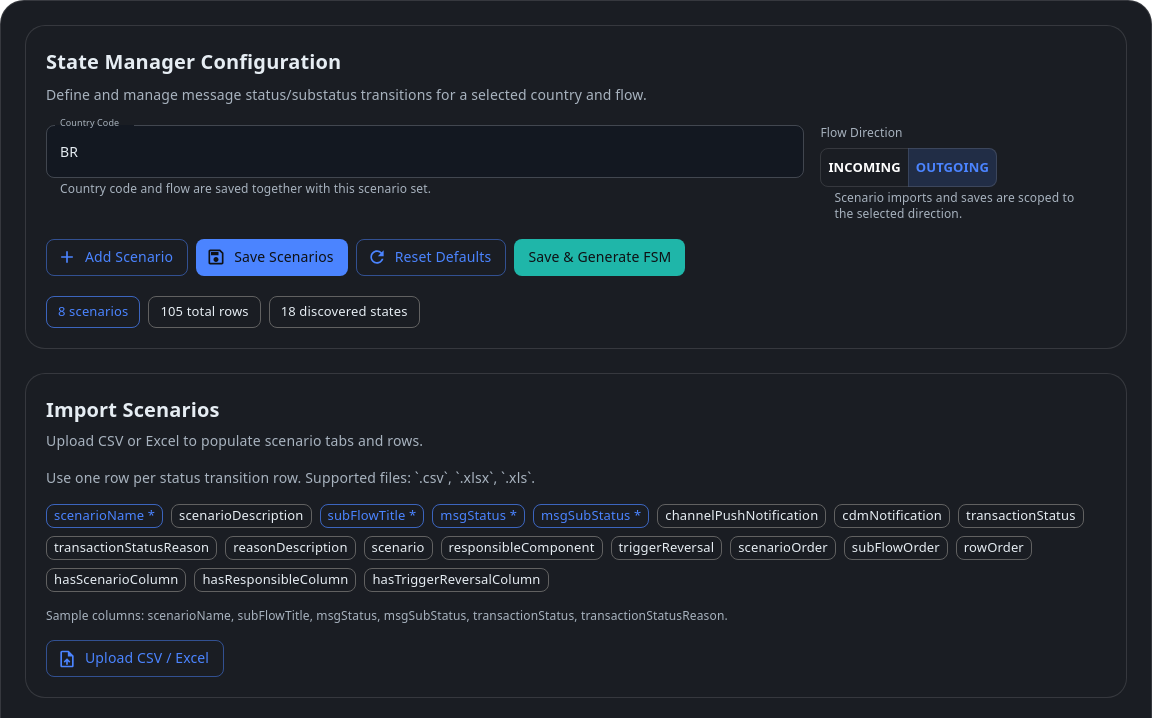
Test: StateManagerPanel › disables Save Scenarios when the configuration is invalid
Clear the field labelled "Country Code" at (425, 152), box x1=46 y1=125 x2=804 y2=178
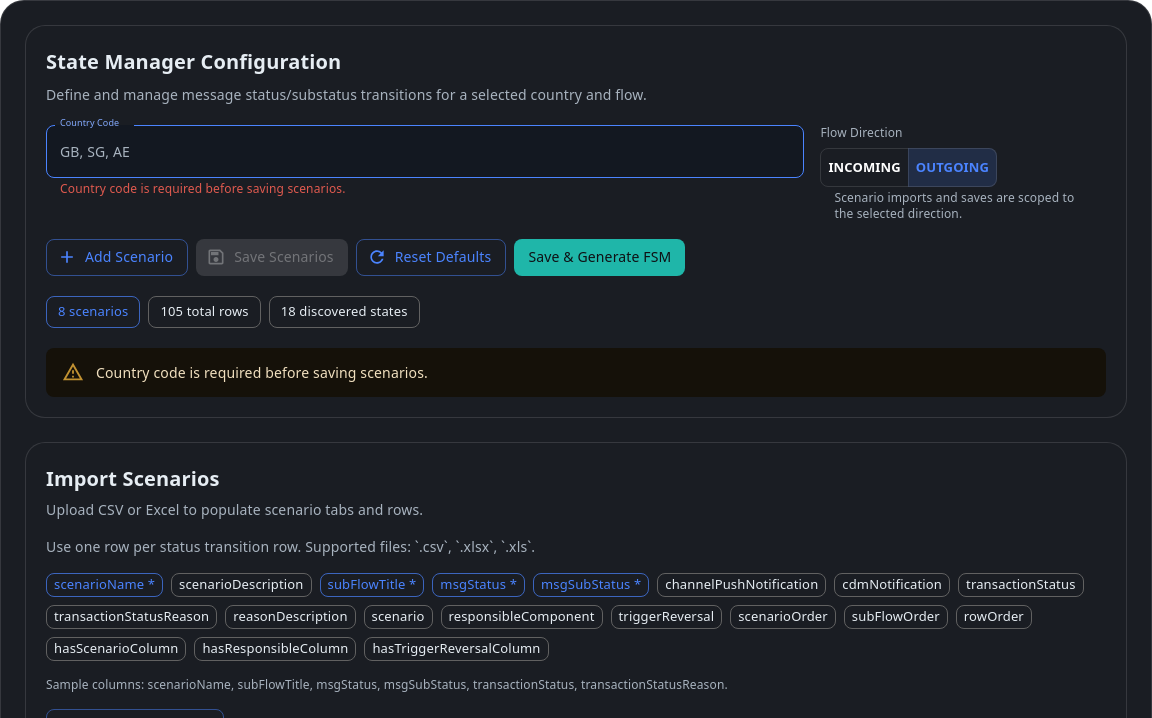
Expected: the button "Save Scenarios" is disabled, x1=196 y1=239 x2=348 y2=276
Expected: the text "Country code is required before saving scenarios." below "Flow Direction" is shown, x1=60 y1=180 x2=346 y2=197
